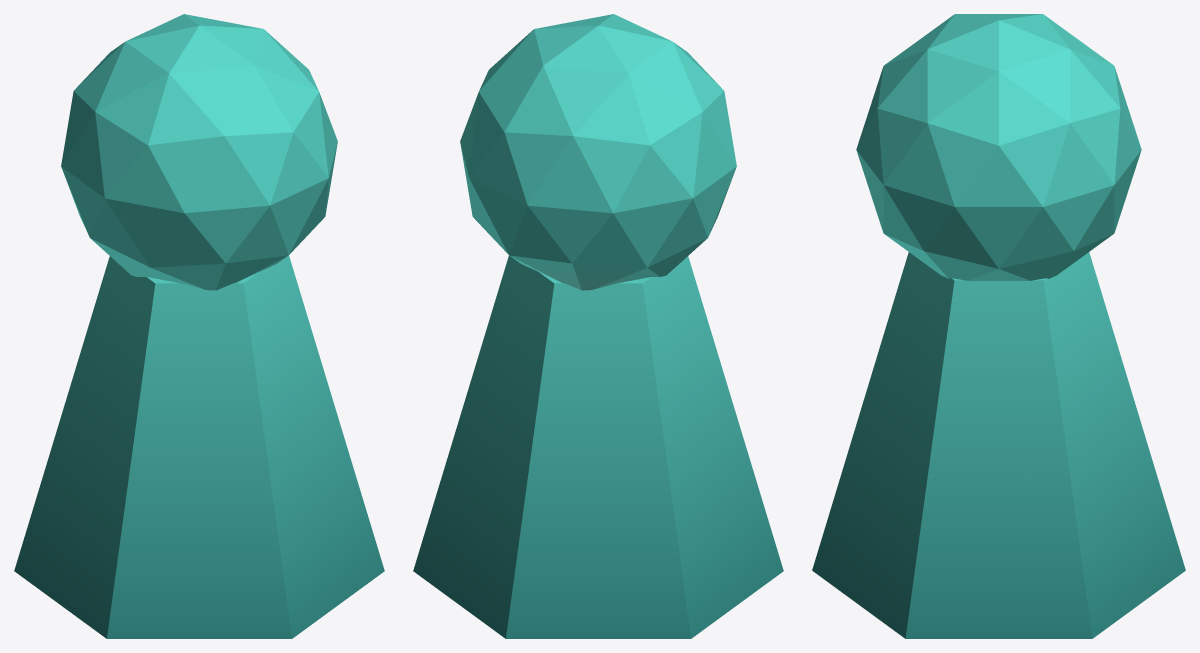
The model's file is minimapPlayer.fbx.
The picture shows the model from 3 angles, left to right: view 1: azimuth 30°, elevation 25°; view 2: azimuth 150°, elevation 25°; view 3: azimuth 270°, elevation 25°; orthographic projection.
Visible parts, largest first — view 1: Cone.001, Icosphere; view 2: Cone.001, Icosphere; view 3: Cone.001, Icosphere.
Boxes of the visible parts, <box> form: Cone.001: <box>14,255,384,638</box>; Icosphere: <box>61,14,337,290</box>; Cone.001: <box>413,255,783,638</box>; Icosphere: <box>460,14,736,290</box>; Cone.001: <box>812,252,1185,638</box>; Icosphere: <box>856,14,1141,280</box>.
Size of the model in its own units: 182 by 341 by 210.
